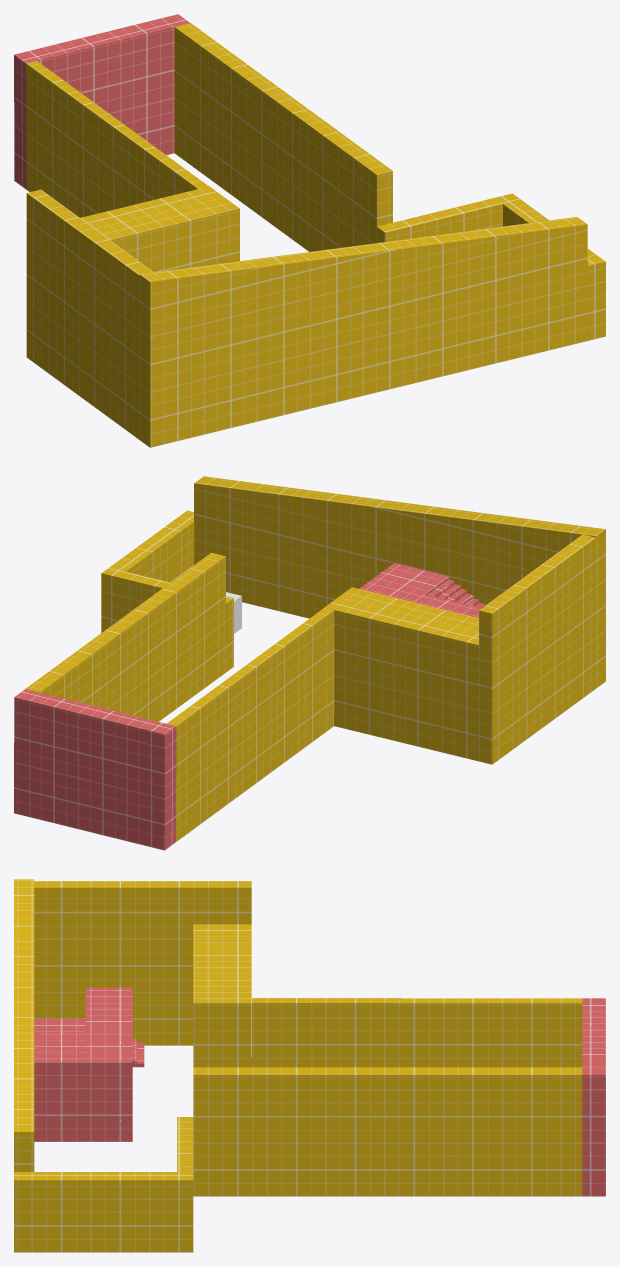
The picture shows the model from 3 angles, top to bottom: view 1: azimuth 30°, elevation 25°; view 2: azimuth 150°, elevation 25°; view 3: azimuth 270°, elevation 25°; orthographic projection. The views are drawn at different scales.
Visible parts, largest first — view 1: Blocks, Obstacles; view 2: Blocks, Obstacles, r146; view 3: Blocks, Obstacles, r146, r147.
Part boxes in pixels (bbox=[...]): Blocks: bbox=[26, 23, 605, 447]; Obstacles: bbox=[14, 14, 189, 189]; Blocks: bbox=[25, 476, 605, 841]; Obstacles: bbox=[14, 581, 481, 850]; r146: bbox=[370, 563, 485, 608]; Blocks: bbox=[14, 879, 582, 1252]; Obstacles: bbox=[85, 987, 605, 1196]; r146: bbox=[34, 1034, 85, 1141]; r147: bbox=[34, 1019, 144, 1067].
Bounding box in the file's own units: 17.21 × 20.14 × 6.
Materials: 3 (2 with a texture image).
